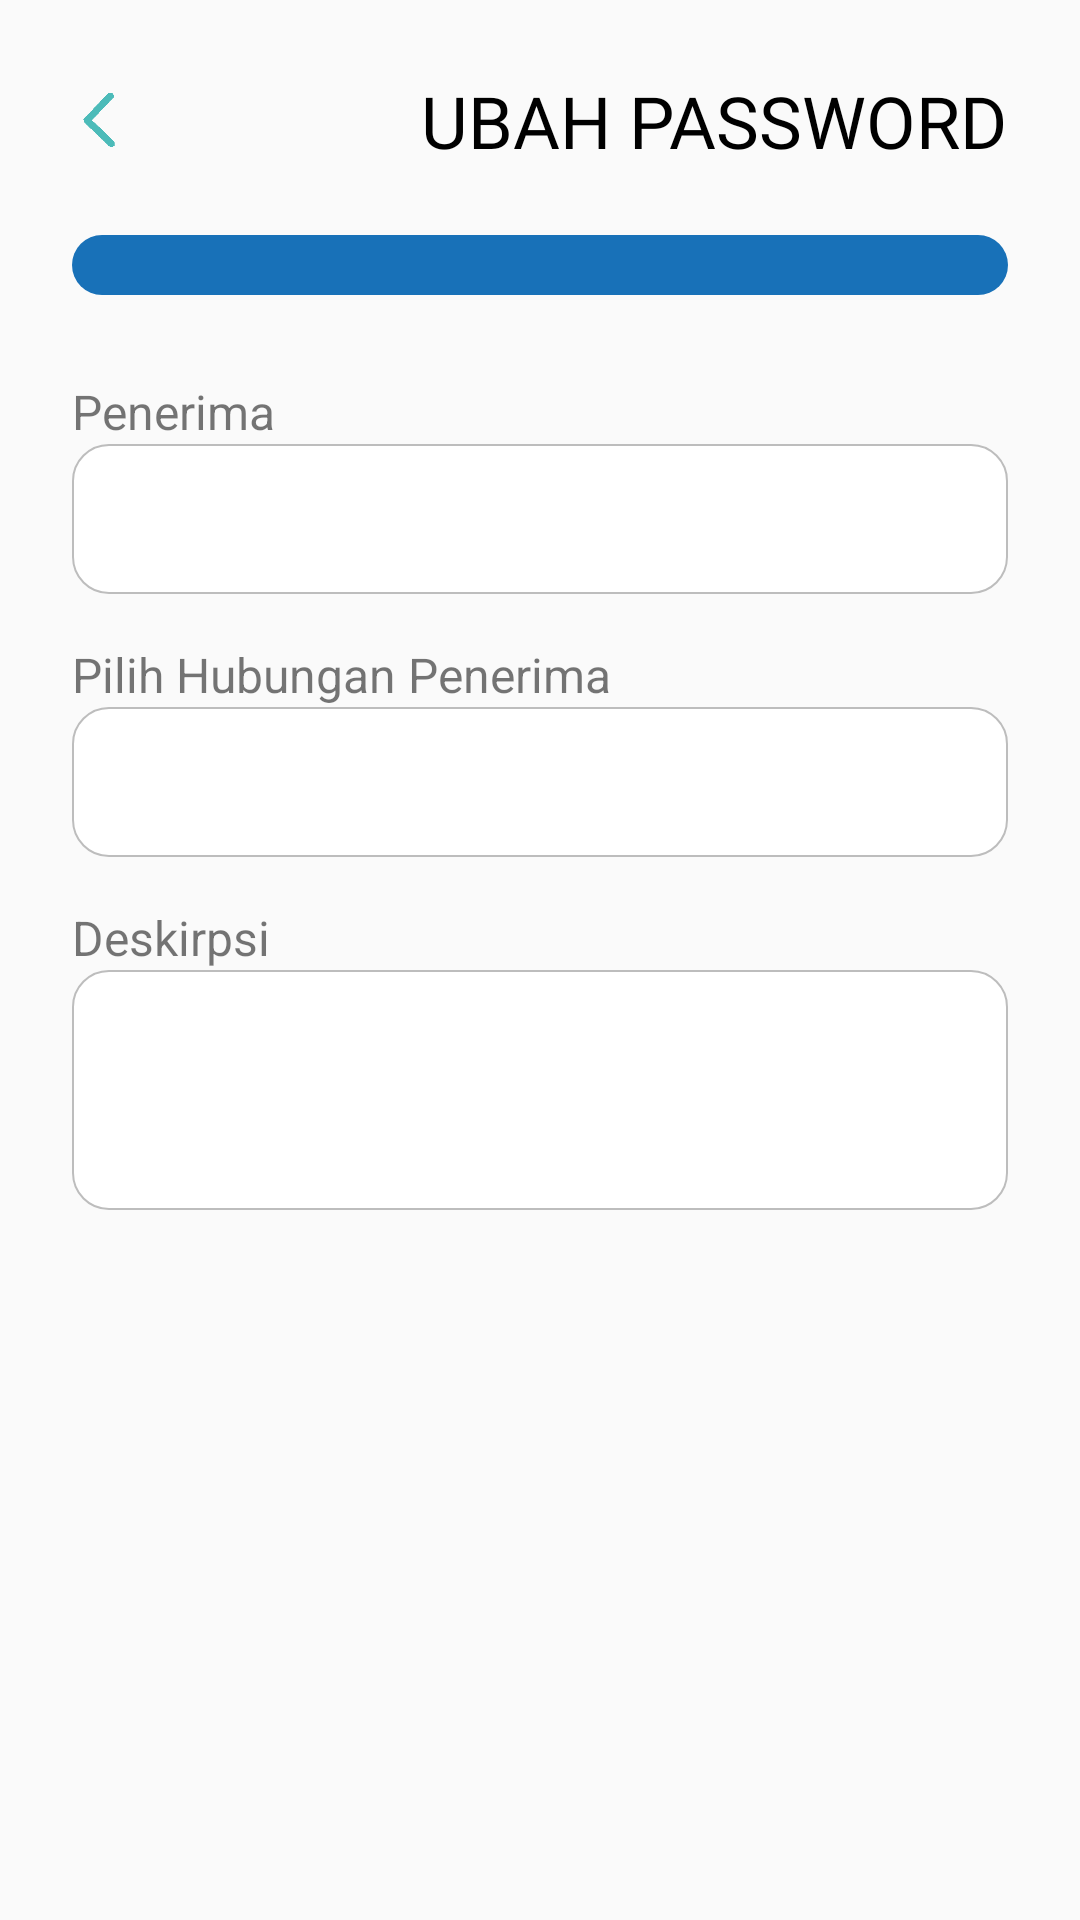

Screen size 1080px×1920px. Icon name, then its box in pixels as (x1, y1, x2, y2):
back: (83, 93, 115, 147)
